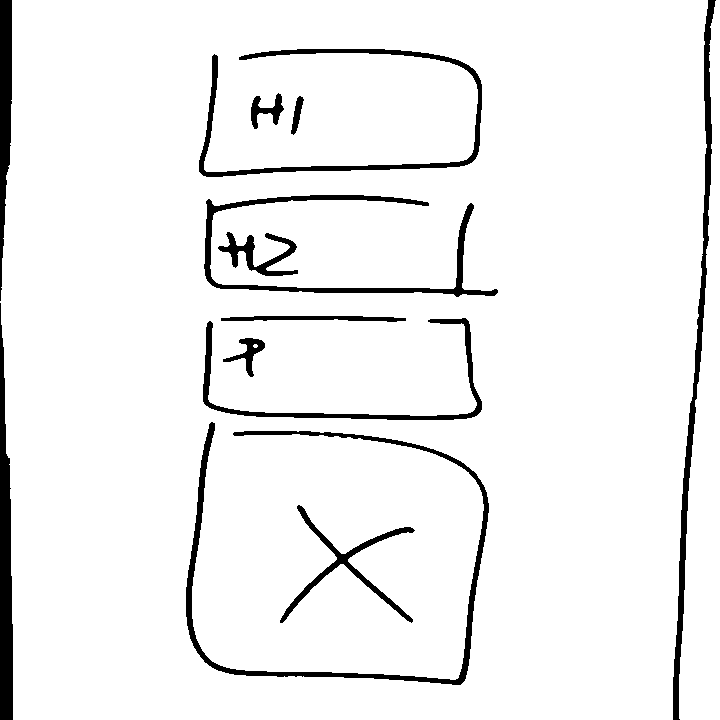heading1: (189, 46, 493, 179)
heading2: (194, 190, 504, 303)
paragraph: (196, 313, 487, 424)
picture: (184, 422, 492, 688)
